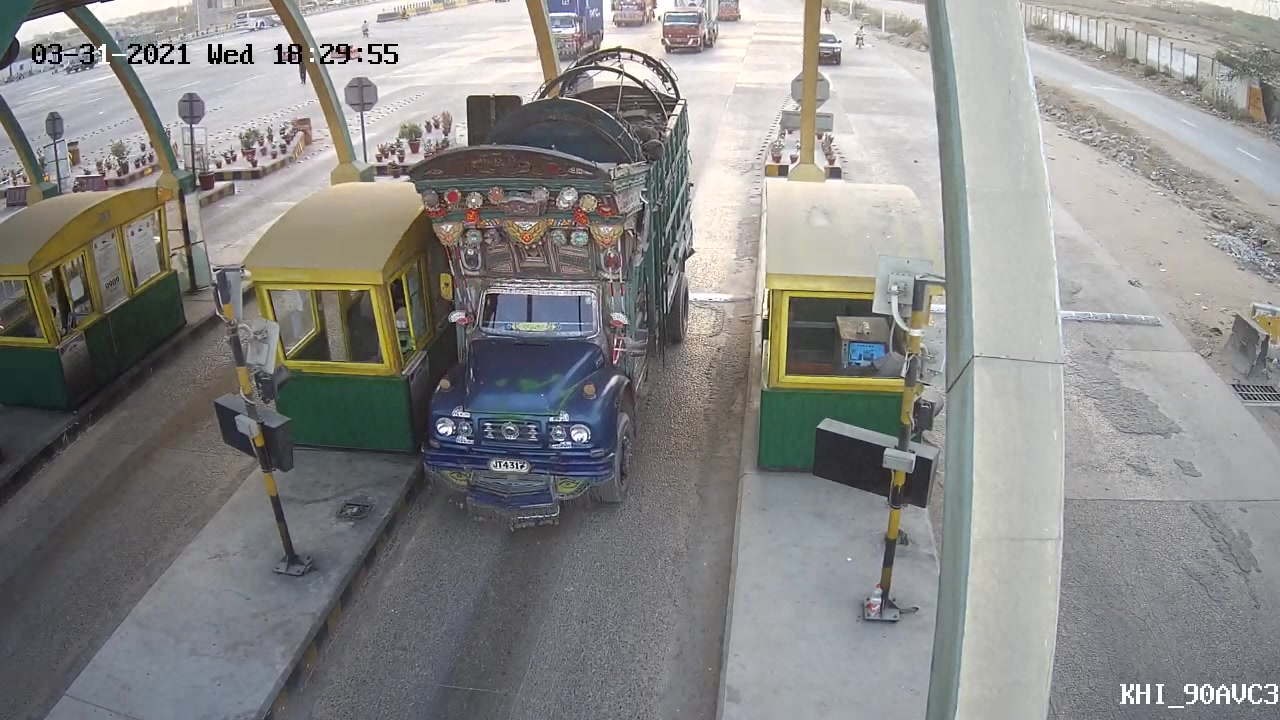F5: (409, 146, 628, 532)
